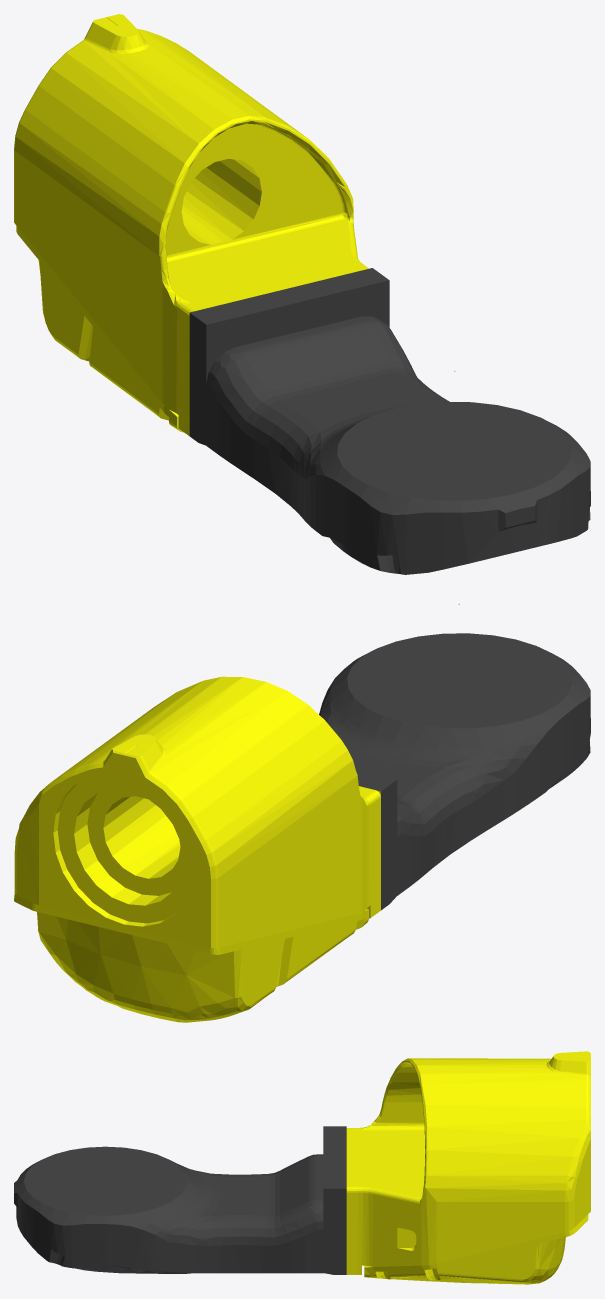
3 renders of one model, top to bottom at view 1: azimuth 30°, elevation 25°; view 2: azimuth 150°, elevation 25°; view 3: azimuth 270°, elevation 25°, orthographic. The views are drawn at different scales.
Parts seen in each view (by area): view 1: node; view 2: node; view 3: node.
Boxes of the visible parts, x1,y1,x2,y2 form: node: [14, 14, 590, 574]; node: [14, 604, 590, 1022]; node: [14, 1051, 590, 1284].
Size of the model in its own units: 172 by 201 by 510.
